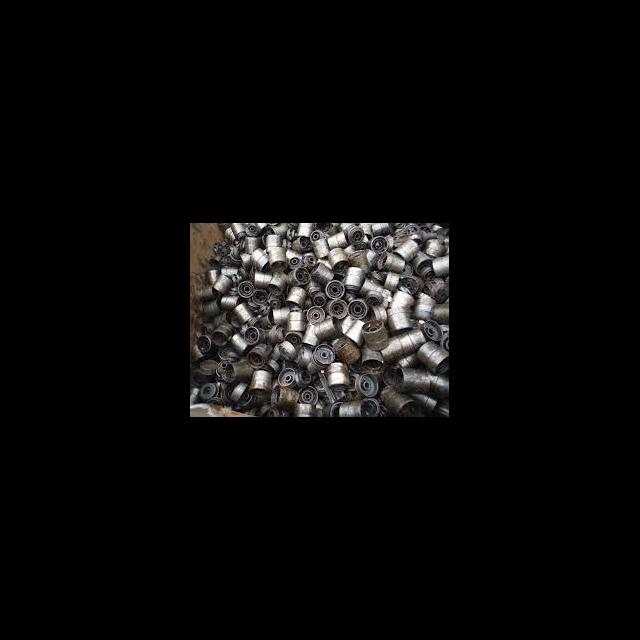metal: (298, 312, 346, 346), (392, 362, 434, 395), (302, 340, 338, 376), (414, 335, 448, 373), (218, 355, 258, 387), (356, 316, 390, 351), (246, 364, 278, 400), (350, 368, 384, 400), (321, 357, 352, 392), (245, 336, 278, 368), (390, 234, 422, 264), (334, 394, 376, 416), (374, 246, 406, 274), (339, 263, 366, 296), (384, 303, 412, 334), (409, 246, 436, 278), (205, 318, 238, 344), (284, 308, 314, 336), (240, 321, 278, 343), (322, 245, 352, 272), (206, 270, 238, 294), (320, 295, 350, 320), (346, 294, 372, 322), (306, 232, 332, 260), (282, 264, 312, 288), (290, 394, 322, 416), (322, 275, 348, 302), (250, 266, 278, 291), (245, 245, 272, 270), (284, 281, 308, 309), (264, 243, 288, 270), (214, 289, 243, 311), (234, 276, 258, 301), (228, 300, 254, 323), (266, 269, 288, 296), (364, 231, 392, 252), (238, 231, 264, 252)
